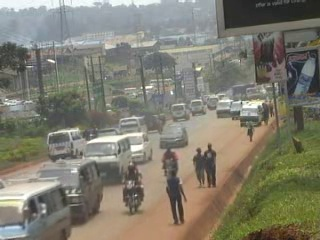Car: (121, 130, 155, 164), (158, 124, 190, 147), (144, 113, 165, 132), (93, 127, 123, 139)
Motorcycle: (118, 160, 146, 215), (159, 144, 180, 183)
